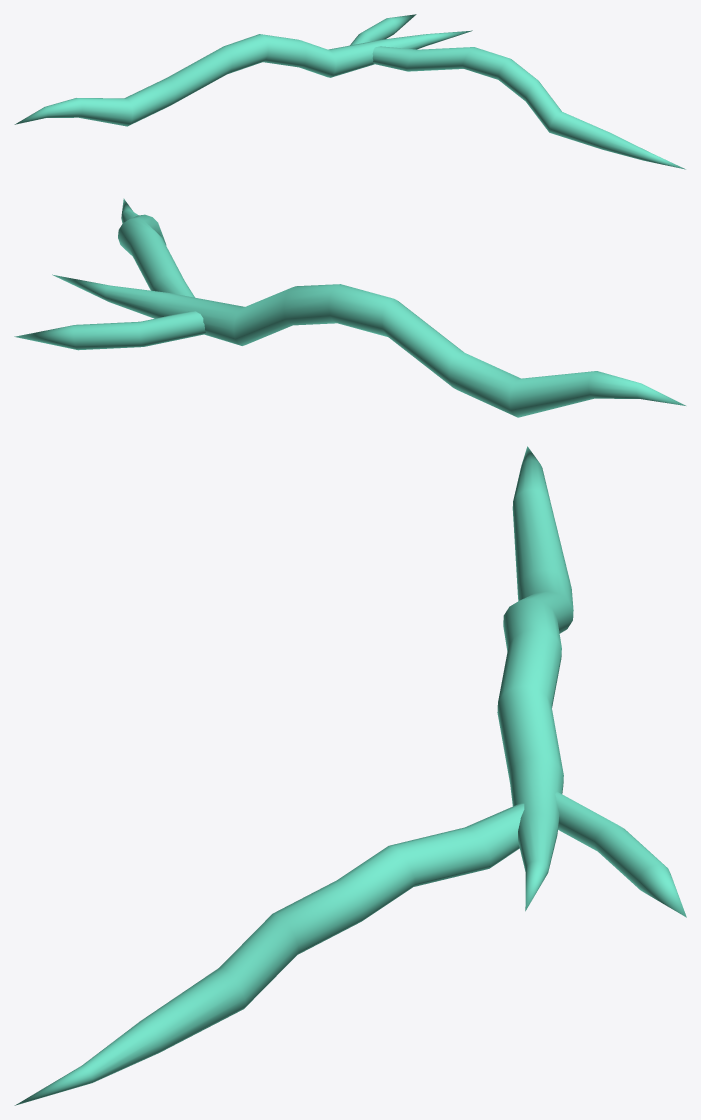
The model's file is Galho 1.fbx.
3 views of the same model, one above another, from view 1: azimuth 30°, elevation 25°; view 2: azimuth 150°, elevation 25°; view 3: azimuth 270°, elevation 25° (orthographic). The views are drawn at different scales.
Parts seen in each view (by area): view 1: Galho 2; view 2: Galho 2; view 3: Galho 2.
Boxes of the visible parts, x1,y1,x2,y2 form: Galho 2: (14,14,685,169); Galho 2: (14,198,685,417); Galho 2: (14,446,686,1105).
Size of the model in its own units: 361 by 67.98 by 202.
